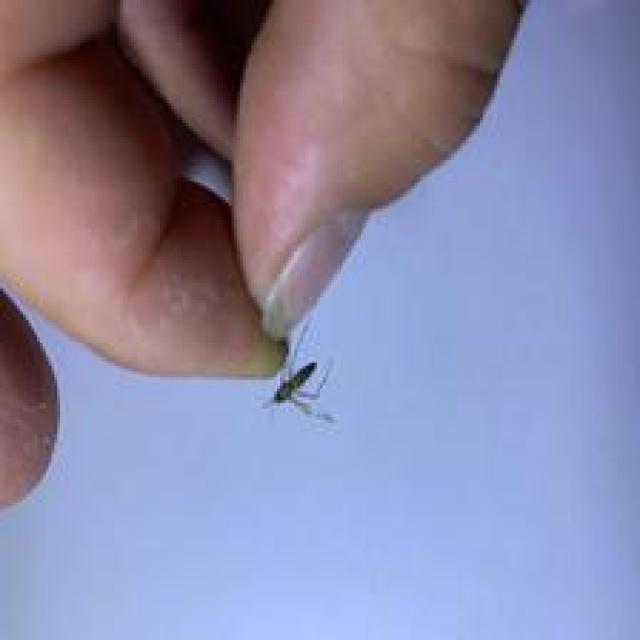Culex: (260, 314, 337, 426)
